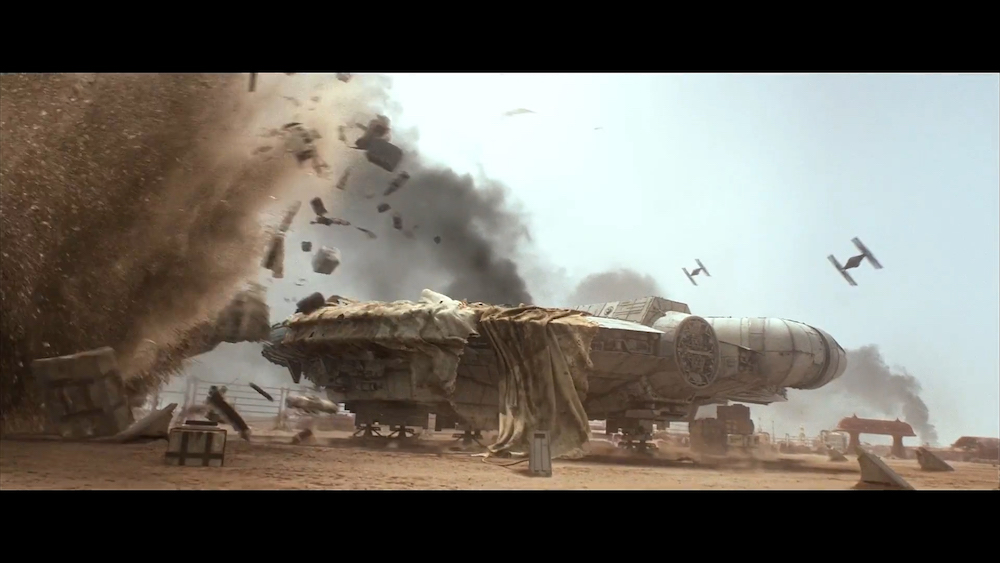Millennium Falcon: (261, 299, 846, 423)
Tie Fighter: (828, 237, 883, 287), (682, 260, 711, 287)
